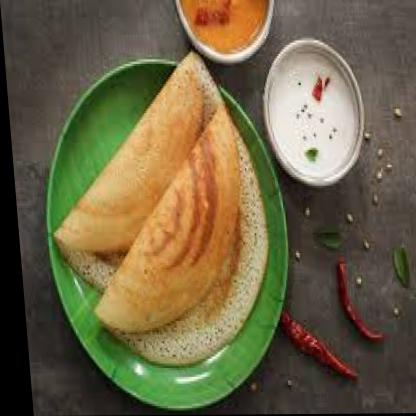dosa: (77, 107, 271, 366), (39, 52, 238, 296)
